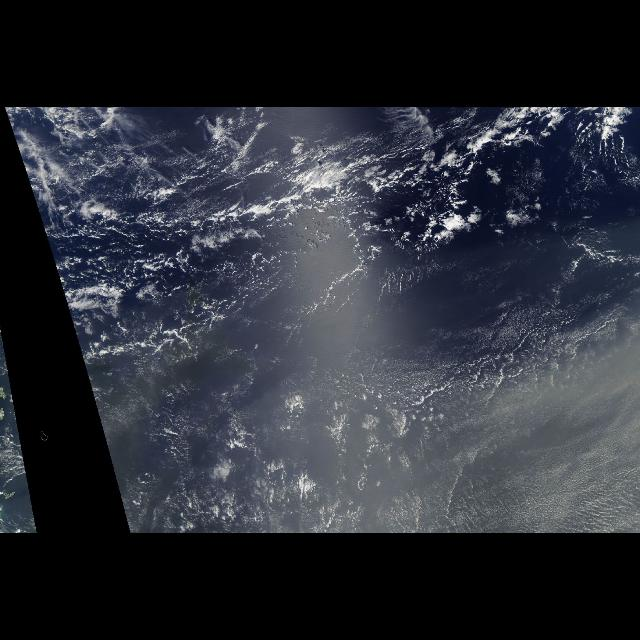Gravel: (42, 224, 198, 346)
Sugar: (344, 297, 640, 533)
